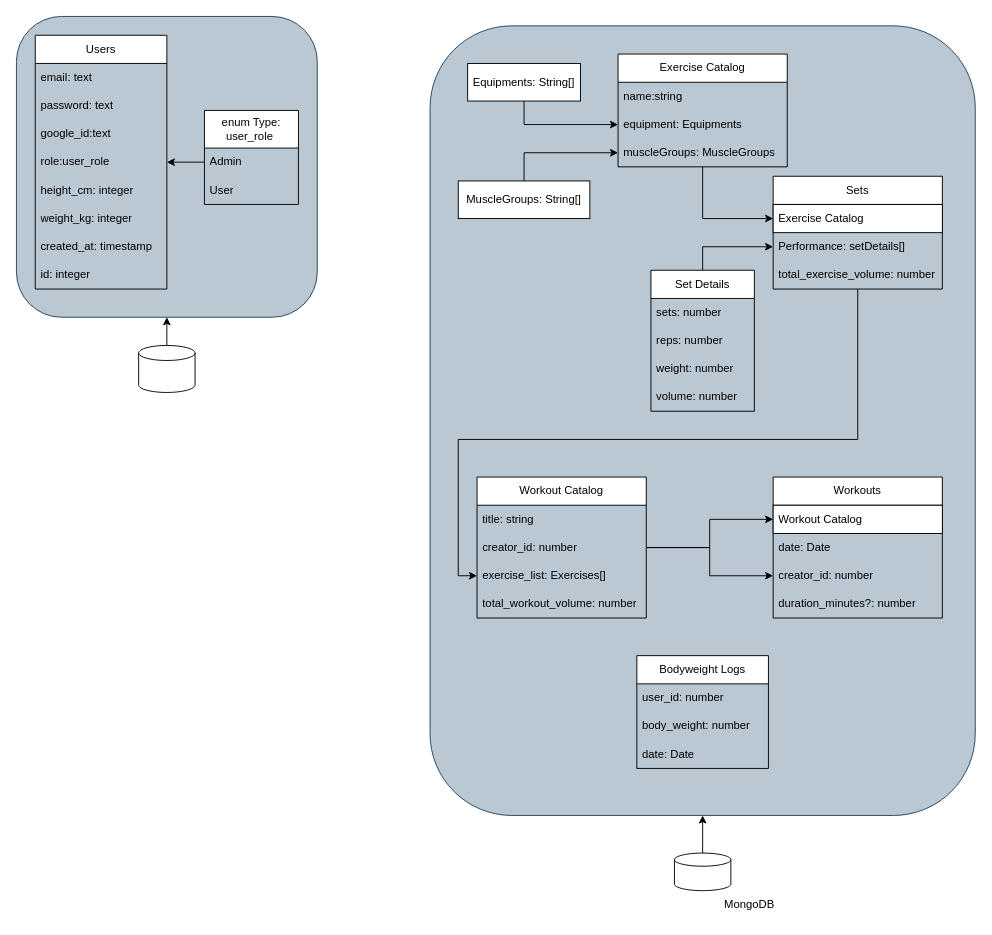
Some shapes in this 992 by 935 pixel diagram are drawn without their labels. Each missing label, with the centre of its shape:
gym_db: the point at 702,871
Postgres: the point at 166,368
